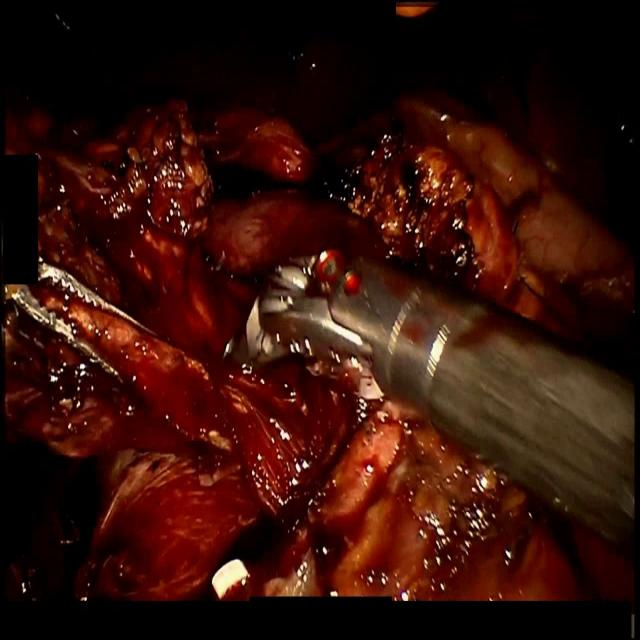surgical-area: (0, 5, 640, 604)
surgical-tool: (214, 255, 640, 572)
